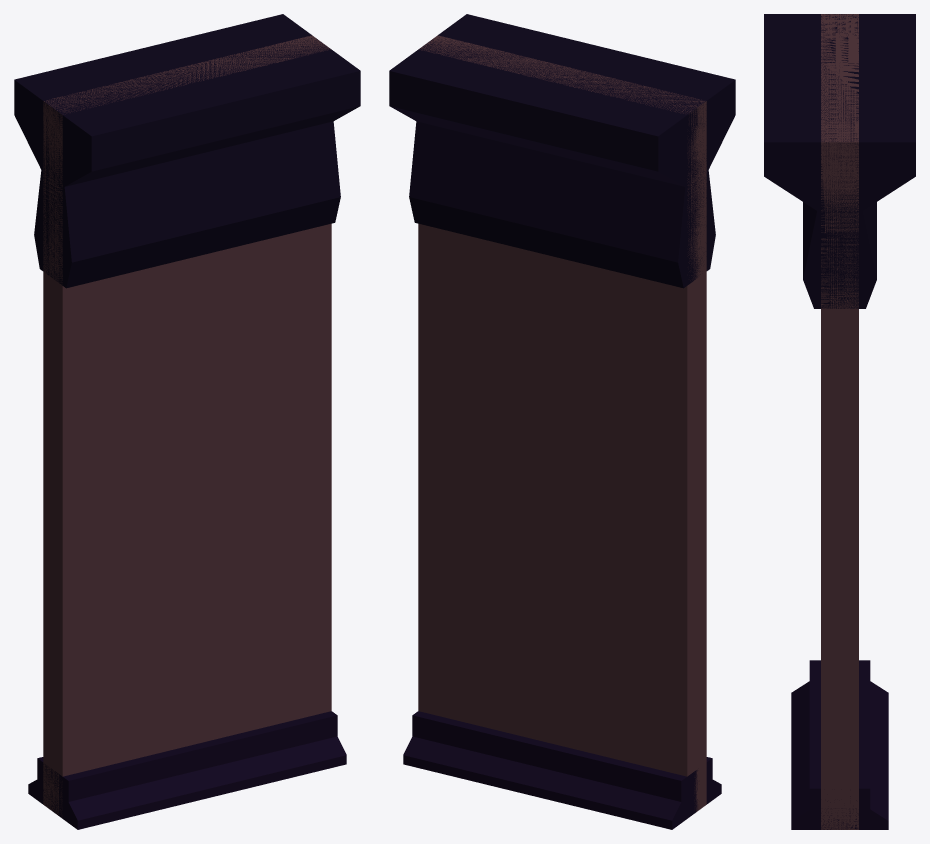
Rendered from Wand.fbx.
3 renders of one model, left to right at view 1: azimuth 30°, elevation 25°; view 2: azimuth 150°, elevation 25°; view 3: azimuth 270°, elevation 25°, orthographic. The views are drawn at different scales.
Visible parts, largest first — view 1: Cube, Cube.023, Cube.021; view 2: Cube, Cube.023, Cube.021; view 3: Cube.023, Cube, Cube.021.
Boxes of the visible parts, x1,y1,x2,y2 form: Cube: [43, 35, 331, 817]; Cube.023: [14, 14, 360, 288]; Cube.021: [28, 711, 346, 829]; Cube: [418, 35, 706, 811]; Cube.023: [389, 14, 735, 288]; Cube.021: [403, 711, 721, 829]; Cube.023: [764, 14, 915, 308]; Cube: [821, 14, 858, 829]; Cube.021: [791, 660, 888, 829].
Size of the model in its own units: 400 by 1000 by 200.
